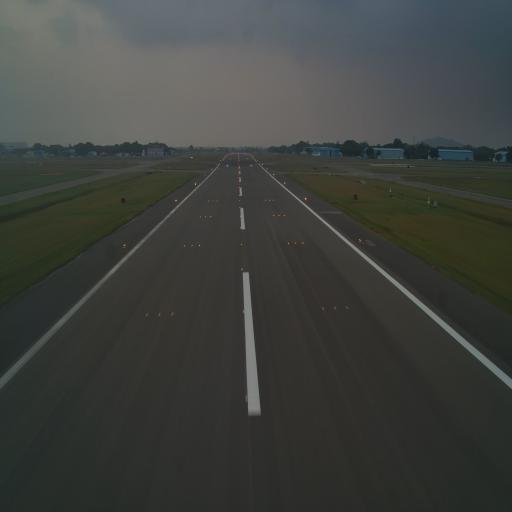on: (244, 391, 249, 404), (333, 304, 337, 312), (242, 308, 246, 315), (145, 311, 149, 317), (158, 312, 162, 318), (123, 242, 127, 248), (171, 310, 174, 316), (322, 304, 324, 312), (346, 303, 348, 311), (183, 244, 187, 248), (198, 243, 201, 248), (301, 240, 304, 245), (359, 237, 361, 243), (241, 267, 243, 272), (240, 242, 242, 247), (287, 241, 289, 246), (191, 243, 193, 247), (295, 242, 297, 246)
